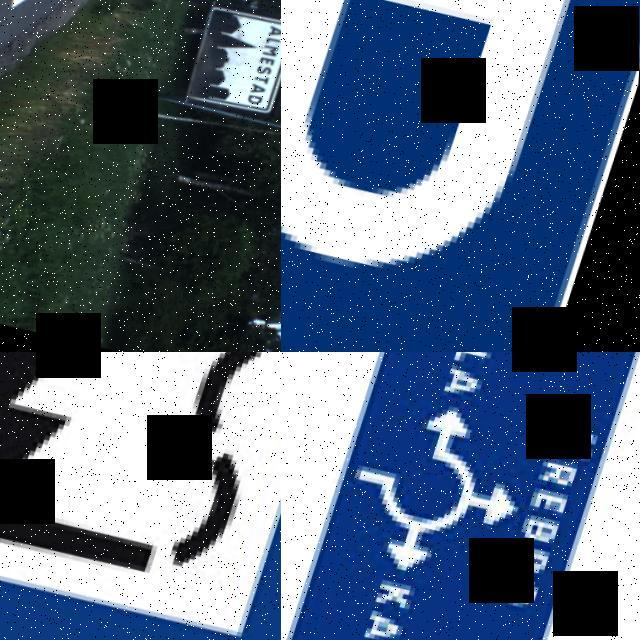127: (176, 0, 281, 130)
59: (0, 352, 281, 640)
83: (281, 352, 640, 640)
Parking: (281, 0, 640, 352)
